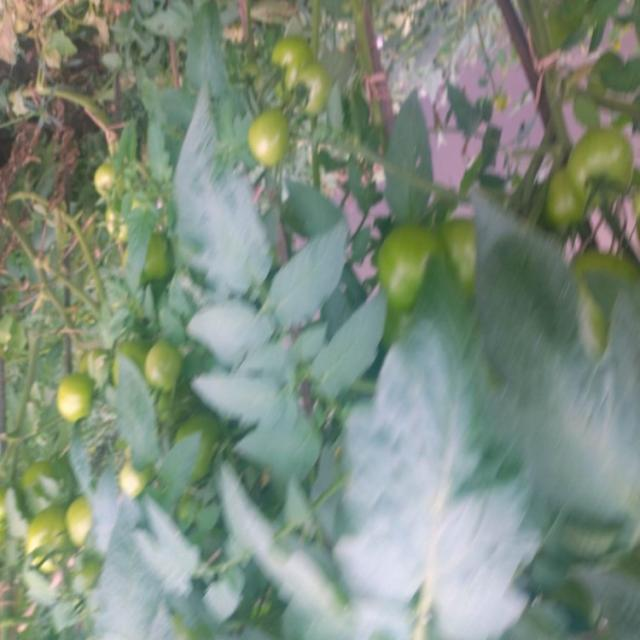tomato: (566, 125, 640, 205), (376, 210, 433, 307), (571, 246, 640, 319), (13, 515, 75, 584), (247, 109, 302, 171), (551, 178, 607, 238), (291, 68, 347, 122), (138, 335, 186, 395), (259, 33, 314, 84), (49, 374, 96, 433), (453, 215, 481, 281), (59, 502, 101, 539), (112, 456, 144, 499), (92, 159, 122, 196)
